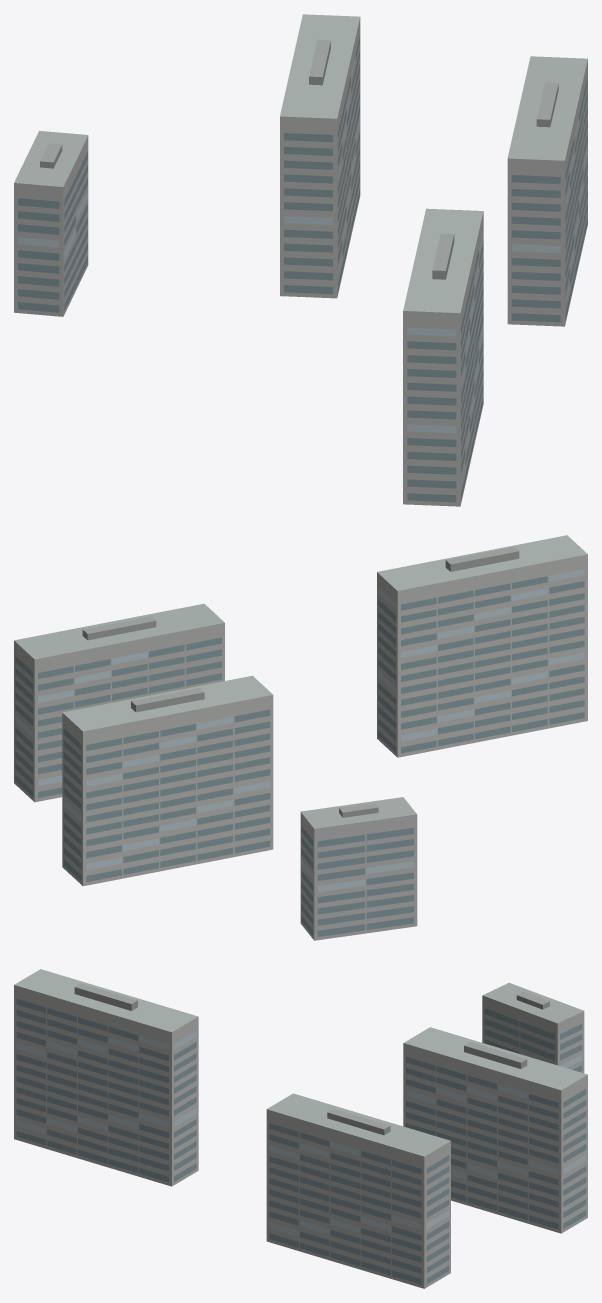
The model's file is apt-a15785919.glb.
3 views of the same model, one above another, from view 1: azimuth 30°, elevation 25°; view 2: azimuth 150°, elevation 25°; view 3: azimuth 270°, elevation 25° (orthographic). The views are drawn at different scales.
Parts seen in each view (by area): view 1: apt-a15785919; view 2: apt-a15785919; view 3: apt-a15785919.
Boxes of the visible parts, x1=… form: apt-a15785919: x1=14, y1=14, x2=587, y2=506; apt-a15785919: x1=14, y1=535, x2=587, y2=940; apt-a15785919: x1=14, y1=969, x2=587, y2=1288.
Bounding box in the file's own units: 120 × 44.62 × 144.
